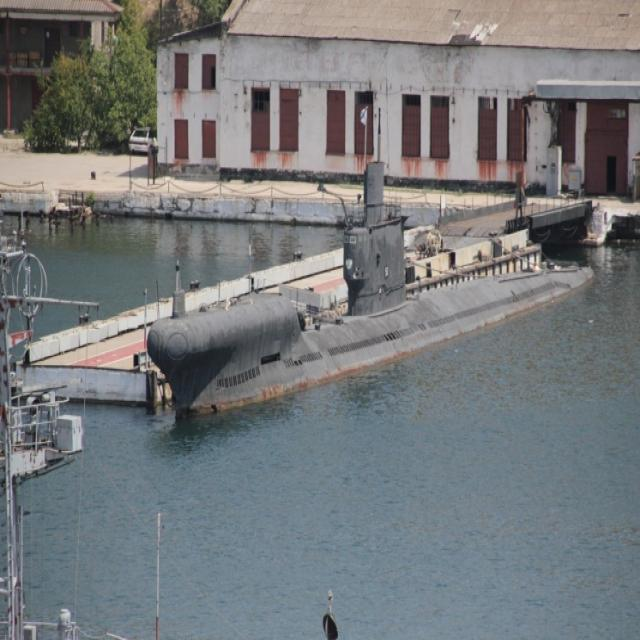submarine: (148, 112, 594, 425)
